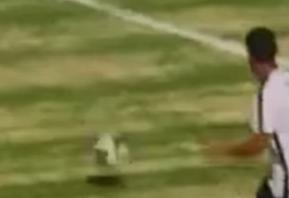ball: (87, 120, 140, 182)
